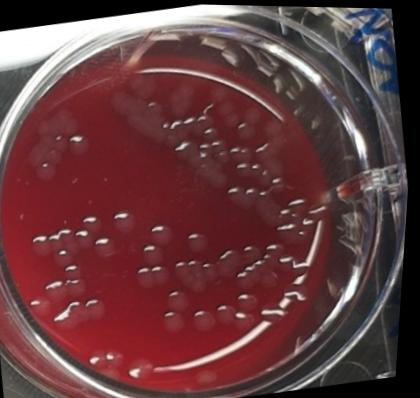vangil: (52, 293, 116, 333), (137, 261, 173, 289), (182, 227, 213, 257), (109, 204, 139, 234), (141, 239, 170, 267), (65, 131, 93, 159), (192, 305, 220, 333), (29, 231, 54, 261), (162, 307, 190, 333), (168, 286, 195, 312), (148, 222, 174, 248), (94, 232, 119, 259), (215, 300, 240, 327), (236, 287, 263, 311), (82, 210, 107, 235), (235, 305, 259, 331), (75, 227, 96, 250)
